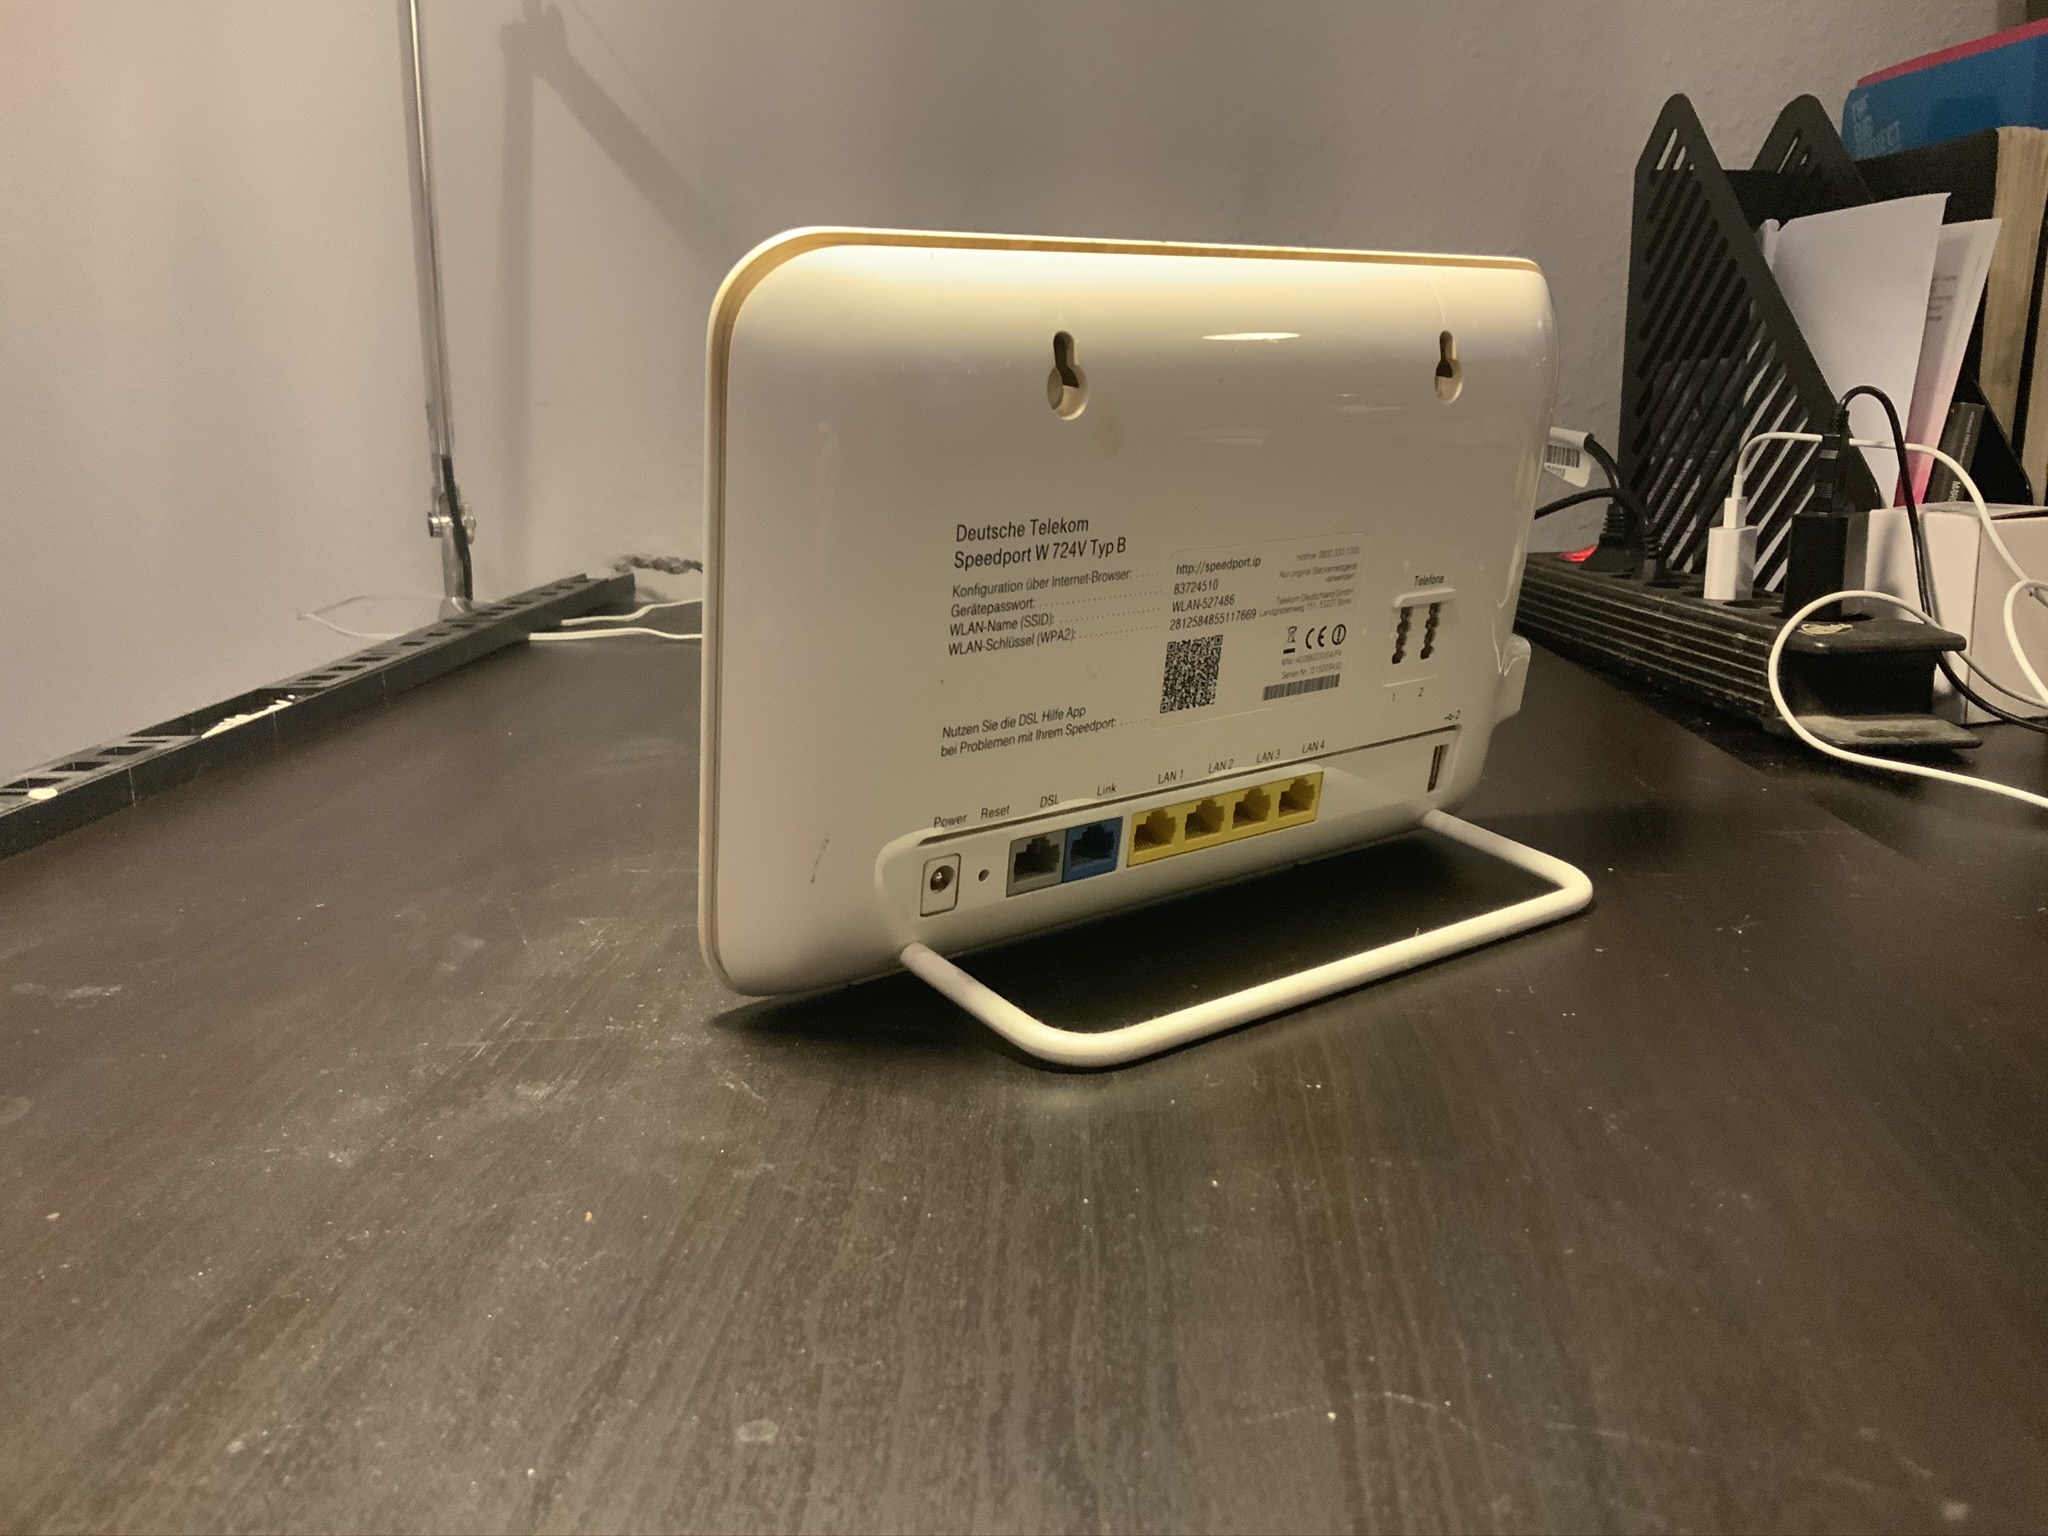router: (692, 219, 1559, 1016)
